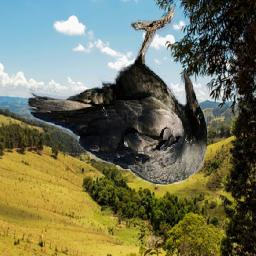Crow: (25, 6, 207, 187)
